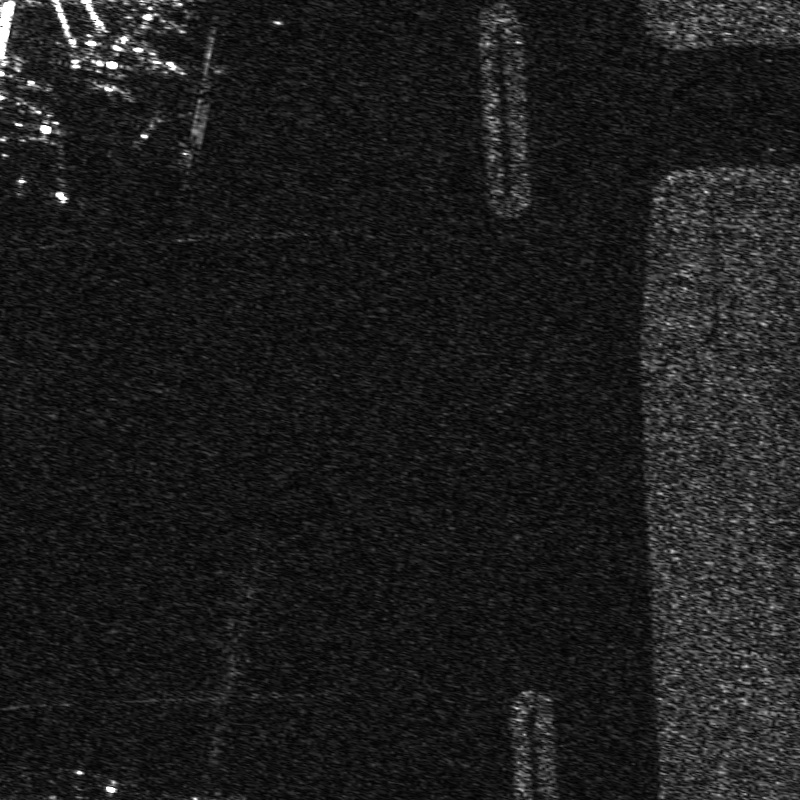A320/321: (120, 92, 209, 175)
